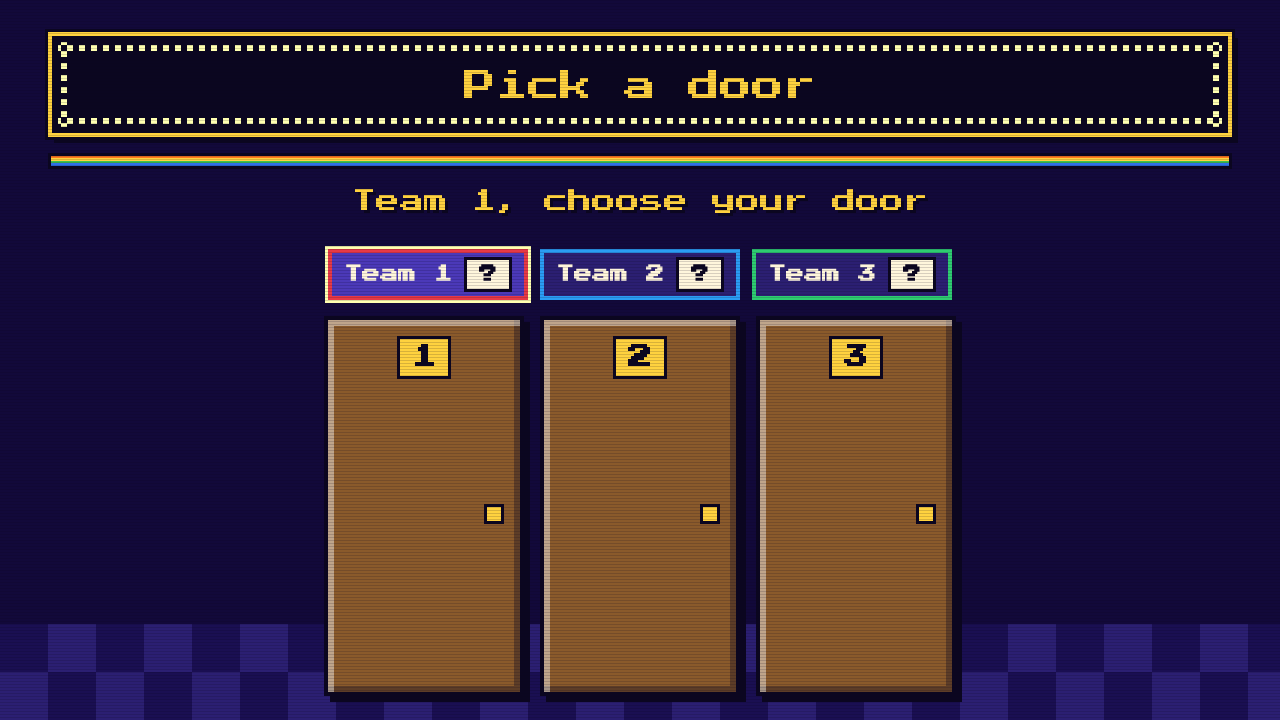
DoorSelection › asks the next team without a pick to choose, and advances after each pick
The width and height of the screenshot is (1280, 720).
Expected: the message reads "Team 1, choose your door", [352,189,928,213]
Click the button named "Door 2".
click(640, 506)  # box [540,316,740,696]
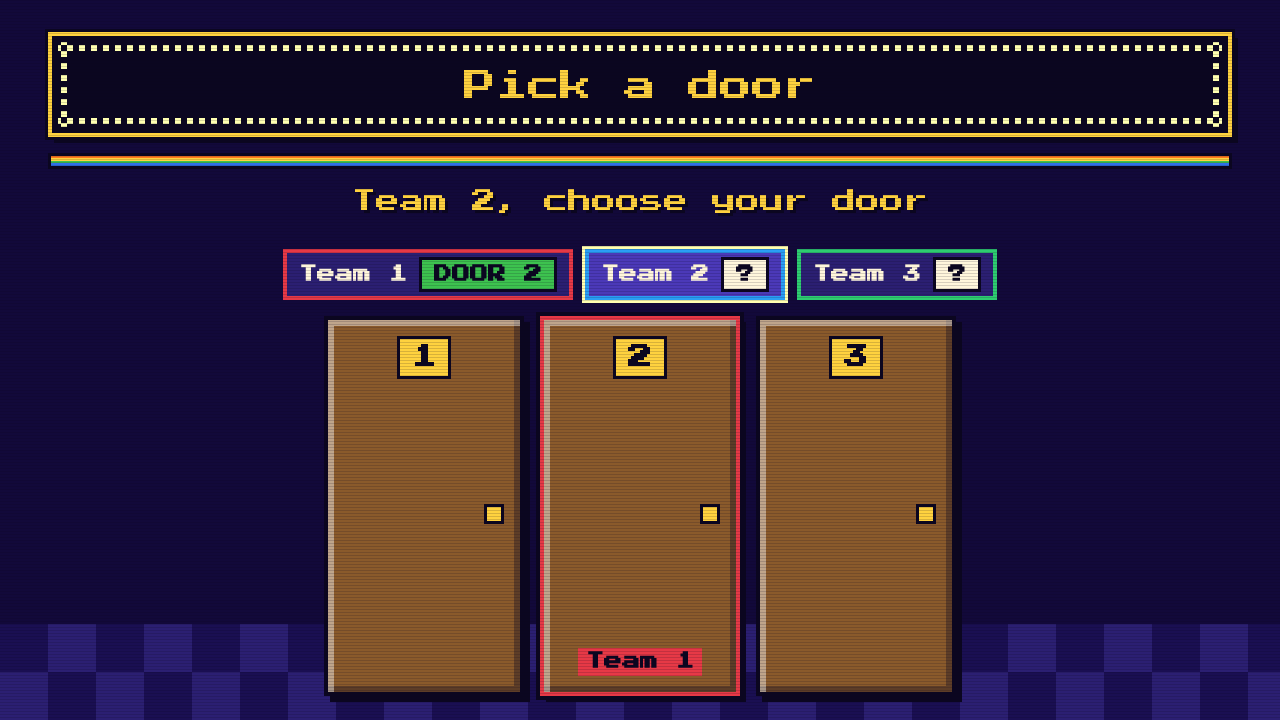
Expected: the message reads "Team 2, choose your door", [352,189,928,213]
Expected: the button with aria-label "Door 2, picked by Team 1" is disabled, [540,316,740,696]
